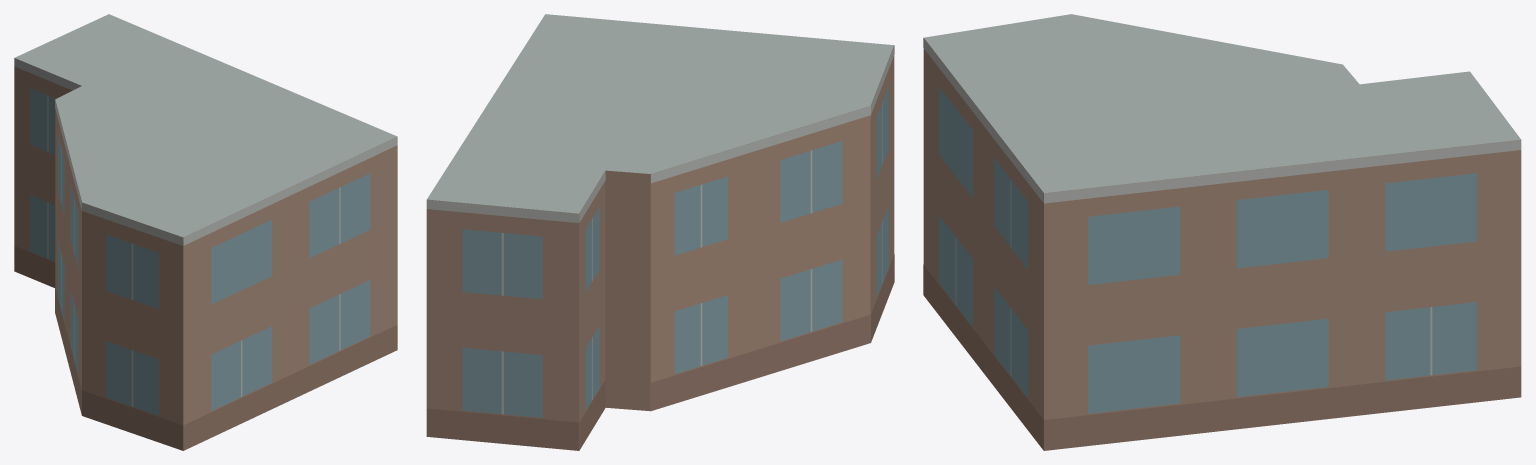
File: survey-upis-32632292.glb
3 views of the same model, side by side, from view 1: azimuth 30°, elevation 25°; view 2: azimuth 150°, elevation 25°; view 3: azimuth 270°, elevation 25° (orthographic). The views are drawn at different scales.
Visible parts, largest first — view 1: survey-upis-32632292.tmp; view 2: survey-upis-32632292.tmp; view 3: survey-upis-32632292.tmp.
Boxes of the visible parts, x1,y1,x2,y2 form: survey-upis-32632292.tmp: (14, 14, 397, 450); survey-upis-32632292.tmp: (426, 14, 894, 450); survey-upis-32632292.tmp: (923, 14, 1521, 450).
Bounding box in the file's own units: 9.11 × 6.1 × 12.84.
